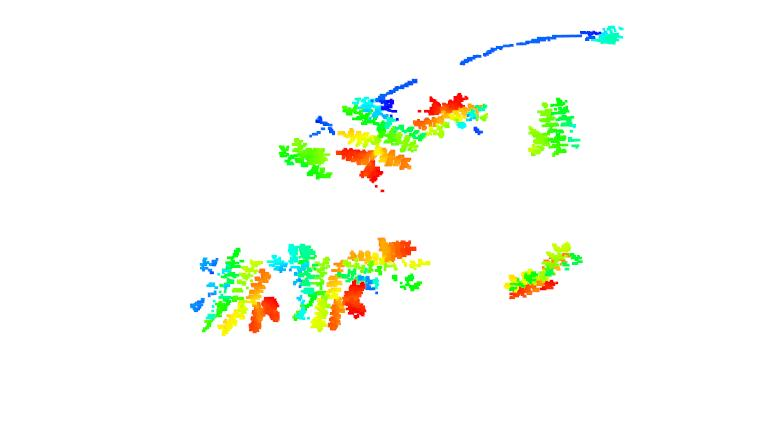chickpea: (266, 241, 365, 330), (187, 248, 279, 332), (336, 92, 416, 187), (502, 242, 586, 302), (340, 237, 426, 292), (524, 96, 587, 159), (411, 93, 493, 139), (273, 138, 335, 181)
